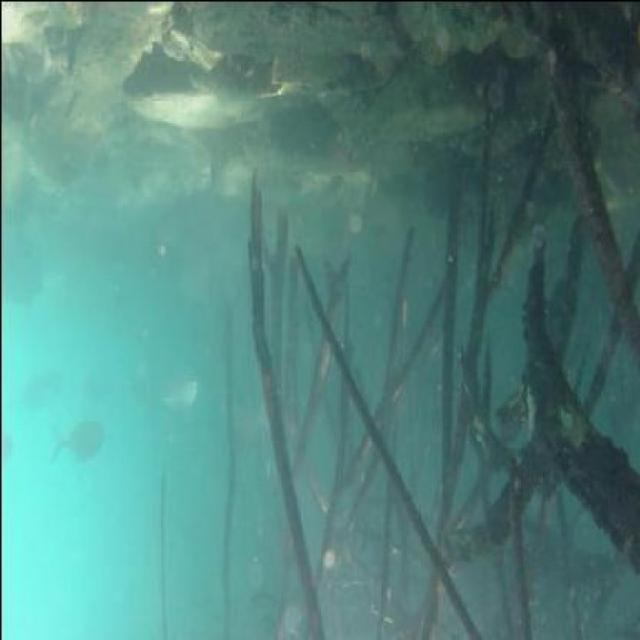Caranx_sexfasciatus_juvenile: (45, 408, 104, 463), (156, 370, 198, 424), (13, 362, 53, 413)
